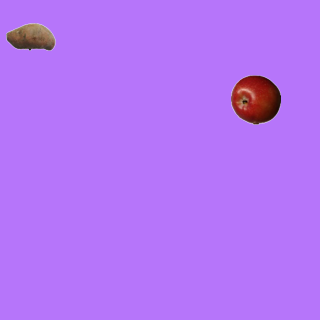Apple Braeburn: (230, 74, 280, 124)
Potato Sweet: (5, 11, 55, 61)
